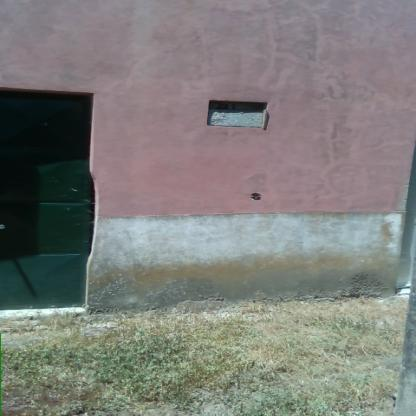closed: (0, 83, 105, 310)
